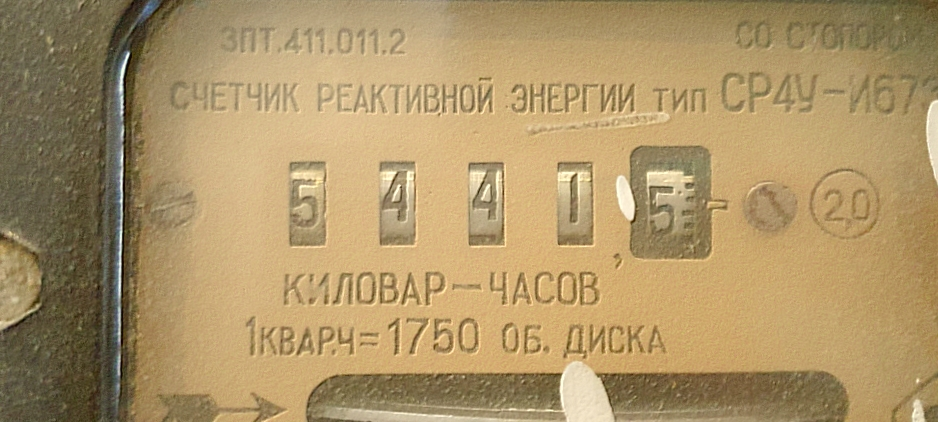1: (560, 169, 586, 228)
4: (466, 162, 505, 229), (378, 164, 415, 227)
5: (644, 179, 681, 243), (285, 174, 325, 233)
screen: (261, 108, 740, 291)
